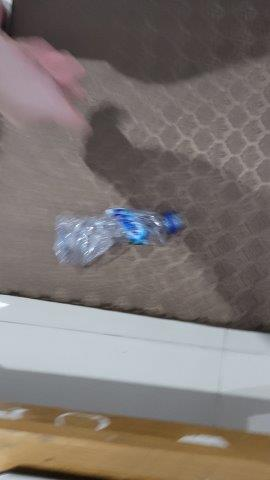botolplastik: (54, 205, 187, 270)
